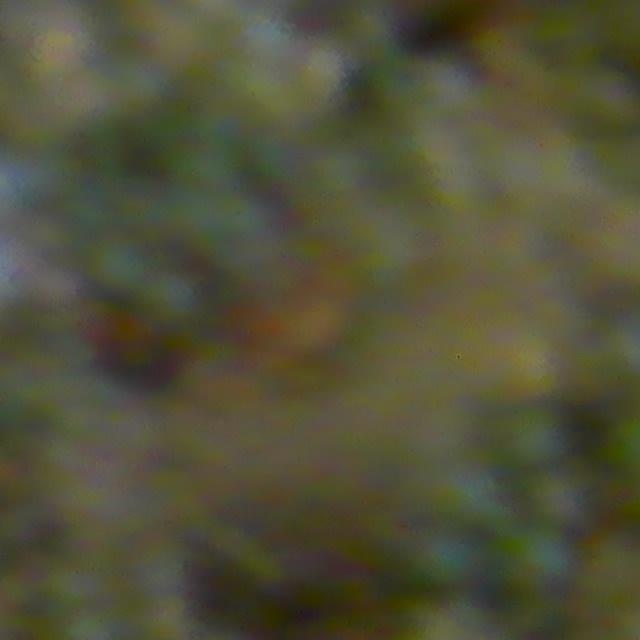SeaGrape: (508, 524, 577, 594), (413, 524, 481, 589), (501, 405, 568, 469), (531, 465, 596, 530), (141, 268, 206, 331), (89, 235, 151, 294)
